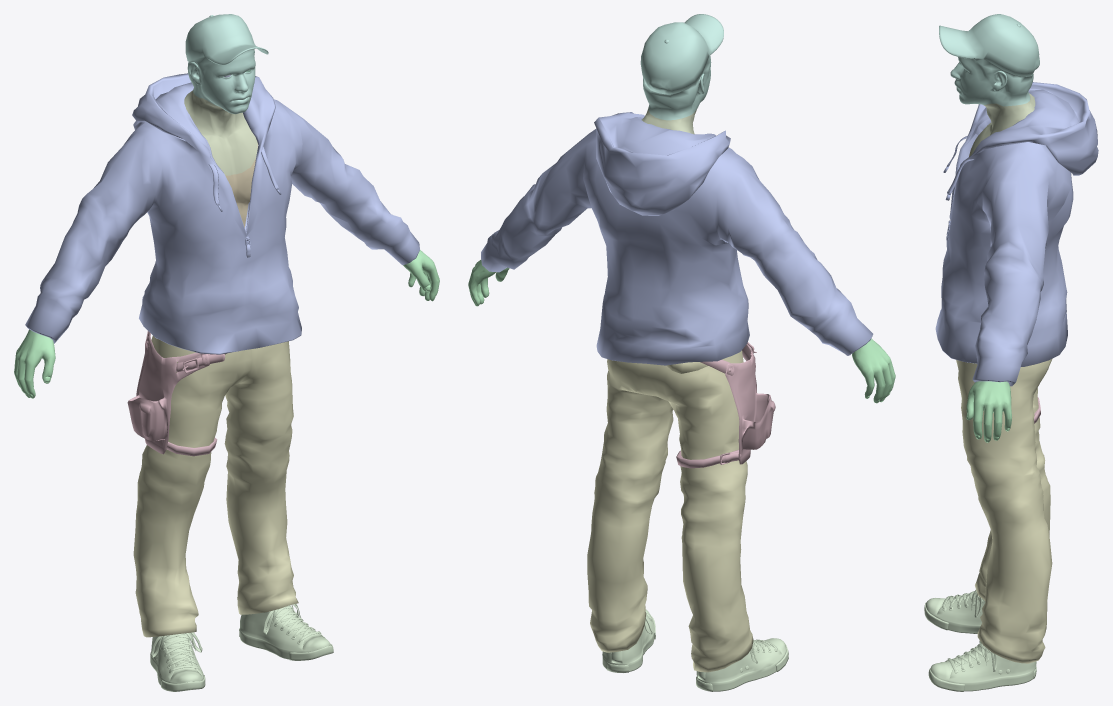
File: Ellis_Hoodie_modified2.fbx
The picture shows the model from 3 angles, left to right: view 1: azimuth 30°, elevation 25°; view 2: azimuth 150°, elevation 25°; view 3: azimuth 270°, elevation 25°; orthographic projection.
Parts seen in each view (by area): view 1: survivor_mechanic_hoodie, survivor_mechanic_pants, survivor_mechanic_reference, survivor_mechanic_converse; view 2: survivor_mechanic_hoodie, survivor_mechanic_pants, survivor_mechanic_reference, survivor_mechanic_converse; view 3: survivor_mechanic_hoodie, survivor_mechanic_pants, survivor_mechanic_reference, survivor_mechanic_converse.
Part boxes in pixels (<box>): survivor_mechanic_hoodie: <box>25,73,419,354</box>; survivor_mechanic_pants: <box>127,331,298,637</box>; survivor_mechanic_reference: <box>14,14,439,398</box>; survivor_mechanic_converse: <box>150,603,333,691</box>; survivor_mechanic_hoodie: <box>481,112,873,365</box>; survivor_mechanic_pants: <box>587,342,775,672</box>; survivor_mechanic_reference: <box>468,14,895,403</box>; survivor_mechanic_converse: <box>602,609,788,691</box>; survivor_mechanic_hoodie: <box>935,82,1098,386</box>; survivor_mechanic_pants: <box>956,358,1052,663</box>; survivor_mechanic_reference: <box>939,14,1039,442</box>; survivor_mechanic_converse: <box>924,590,1036,691</box>.
Bounding box in the file's own units: 143 × 210 × 51.98.
